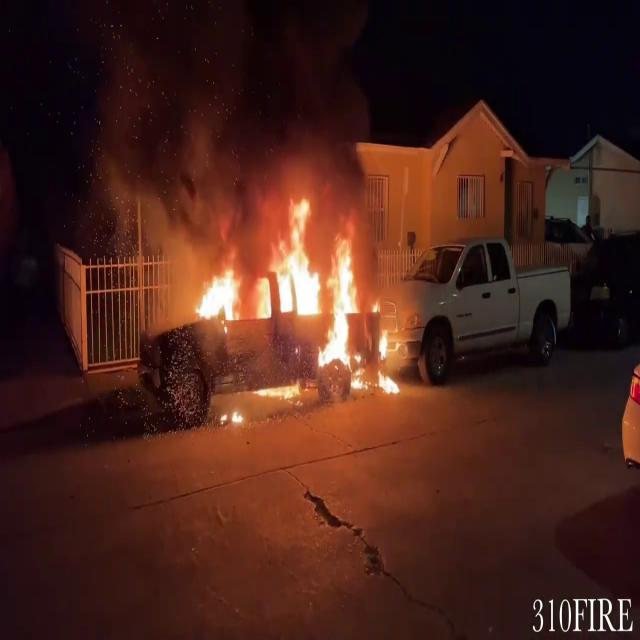Fire: (190, 194, 400, 392), (190, 258, 242, 328)
Smoke: (112, 2, 380, 258)
